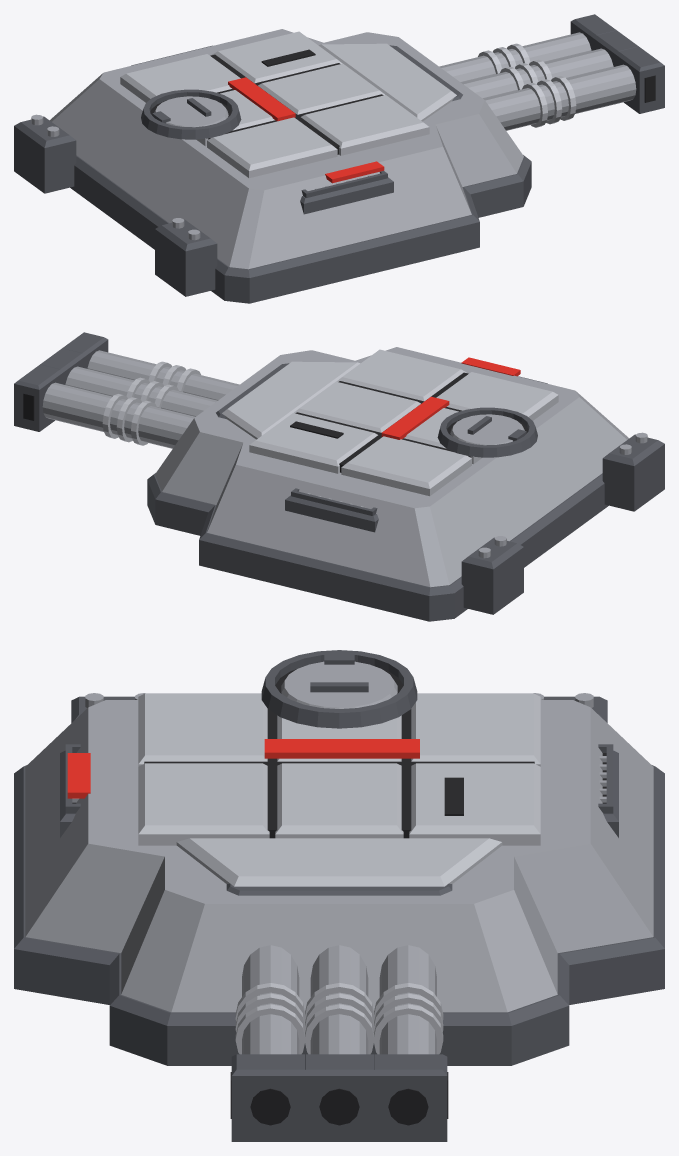
Rendered from vge_egun_gauss_howitzer.obj.
3 views of the same model, one above another, from view 1: azimuth 30°, elevation 25°; view 2: azimuth 150°, elevation 25°; view 3: azimuth 270°, elevation 25° (orthographic). The views are drawn at different scales.
Visible parts, largest first — view 1: vge_egun_gauss_howitzer_3, vge_egun_gauss_howitzer_1, vge_egun_gauss_howitzer_18, vge_egun_gauss_howitzer_2, vge_egun_gauss_howitzer_61, vge_egun_gauss_howitzer_6, vge_egun_gauss_howitzer_12, vge_egun_gauss_howitzer_14, vge_egun_gauss_howitzer_16, vge_egun_gauss_howitzer_10, vge_egun_gauss_howitzer_23, vge_egun_gauss_howitzer_19 (+19 smaller); view 2: vge_egun_gauss_howitzer_3, vge_egun_gauss_howitzer_1, vge_egun_gauss_howitzer_18, vge_egun_gauss_howitzer_2, vge_egun_gauss_howitzer_83, vge_egun_gauss_howitzer_10, vge_egun_gauss_howitzer_12, vge_egun_gauss_howitzer_14, vge_egun_gauss_howitzer_16, vge_egun_gauss_howitzer_6, vge_egun_gauss_howitzer_19, vge_egun_gauss_howitzer_23 (+19 smaller); view 3: vge_egun_gauss_howitzer_3, vge_egun_gauss_howitzer_1, vge_egun_gauss_howitzer_18, vge_egun_gauss_howitzer_2, vge_egun_gauss_howitzer_12, vge_egun_gauss_howitzer_14, vge_egun_gauss_howitzer_6, vge_egun_gauss_howitzer_10, vge_egun_gauss_howitzer_16, vge_egun_gauss_howitzer_27, vge_egun_gauss_howitzer_72, vge_egun_gauss_howitzer_61 (+28 smaller).
Part boxes in pixels (x1,y1,x2,y2): vge_egun_gauss_howitzer_3: (49, 29, 523, 269); vge_egun_gauss_howitzer_1: (70, 162, 531, 303); vge_egun_gauss_howitzer_18: (318, 43, 456, 120); vge_egun_gauss_howitzer_2: (74, 155, 531, 277); vge_egun_gauss_howitzer_61: (483, 64, 636, 130); vge_egun_gauss_howitzer_6: (207, 117, 337, 170); vge_egun_gauss_howitzer_12: (301, 95, 428, 148); vge_egun_gauss_howitzer_14: (258, 63, 384, 114); vge_egun_gauss_howitzer_16: (212, 31, 342, 83); vge_egun_gauss_howitzer_10: (121, 54, 240, 98); vge_egun_gauss_howitzer_23: (14, 126, 76, 193); vge_egun_gauss_howitzer_19: (155, 229, 217, 296); vge_egun_gauss_howitzer_3: (155, 347, 629, 587); vge_egun_gauss_howitzer_1: (147, 480, 608, 621); vge_egun_gauss_howitzer_18: (222, 361, 360, 438); vge_egun_gauss_howitzer_2: (147, 473, 604, 595); vge_egun_gauss_howitzer_83: (42, 382, 195, 448); vge_egun_gauss_howitzer_10: (341, 436, 471, 488); vge_egun_gauss_howitzer_12: (336, 349, 466, 401); vge_egun_gauss_howitzer_14: (294, 381, 420, 432); vge_egun_gauss_howitzer_16: (250, 413, 377, 466); vge_egun_gauss_howitzer_6: (436, 372, 557, 416); vge_egun_gauss_howitzer_19: (602, 444, 664, 511); vge_egun_gauss_howitzer_23: (461, 547, 523, 614); vge_egun_gauss_howitzer_3: (25, 700, 653, 1012); vge_egun_gauss_howitzer_1: (14, 949, 664, 1065); vge_egun_gauss_howitzer_18: (177, 838, 501, 886); vge_egun_gauss_howitzer_2: (14, 765, 664, 1025); vge_egun_gauss_howitzer_12: (138, 763, 269, 834); vge_egun_gauss_howitzer_14: (275, 763, 403, 834); vge_egun_gauss_howitzer_6: (138, 693, 267, 764); vge_egun_gauss_howitzer_10: (411, 693, 540, 764); vge_egun_gauss_howitzer_16: (409, 763, 540, 834); vge_egun_gauss_howitzer_27: (261, 650, 417, 728); vge_egun_gauss_howitzer_72: (310, 945, 368, 1054); vge_egun_gauss_howitzer_61: (242, 945, 299, 1054).
Size of the model in its own units: 5.01 by 1.14 by 3.4.
